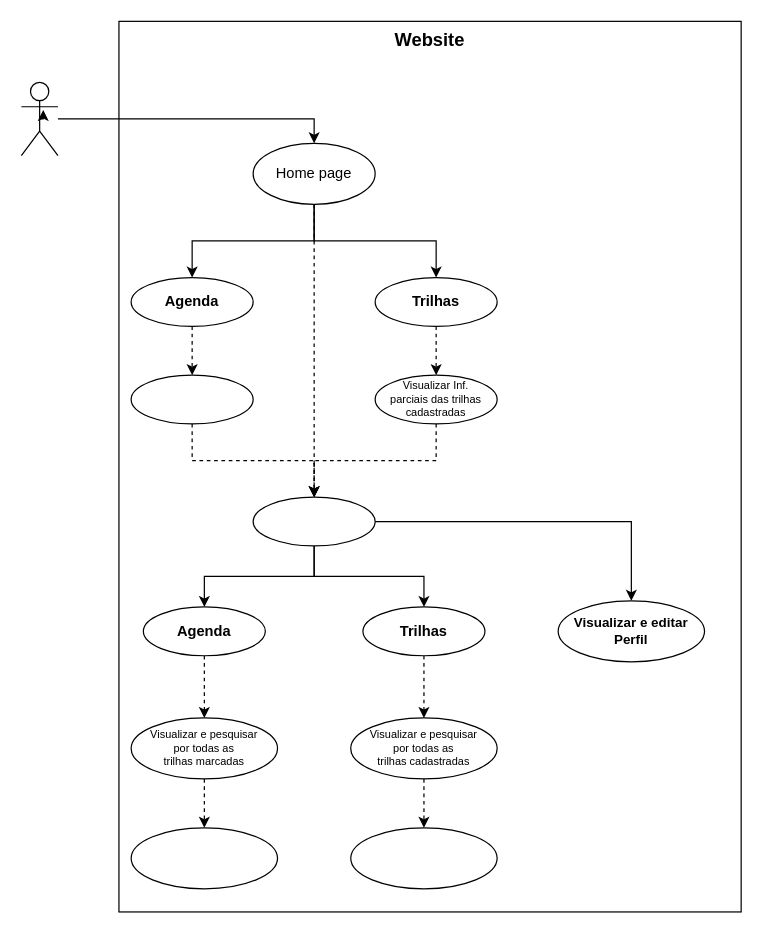
Image size: 763x933. Some labels were removed from this diagram. Each missing label, with the centre of its shape:
Actor: the point at 39,118
Login / Cadastro: the point at 313,521
Marcar uma trilha: the point at 423,858
Solicitar participação: the point at 204,858
Visualizar algumas trilhas marcadas: the point at 191,399
